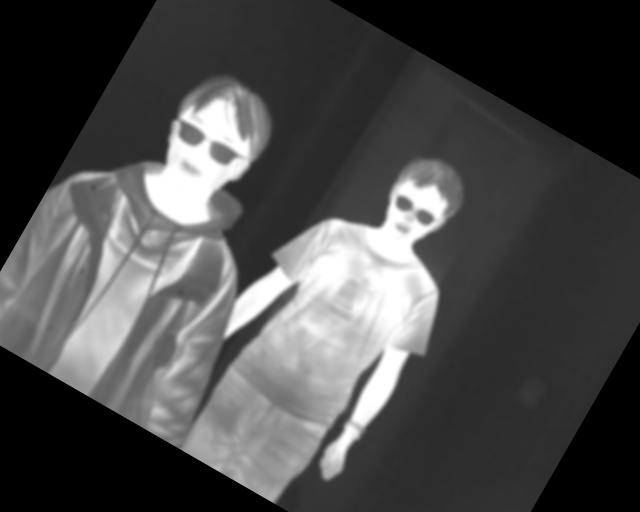face: (143, 59, 289, 215), (369, 144, 474, 259)
